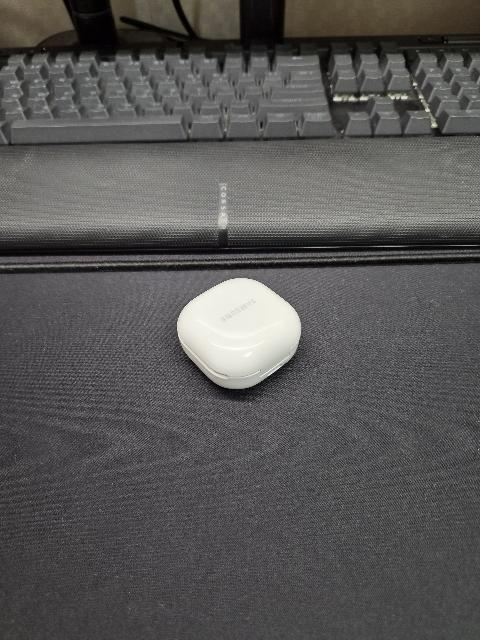earphone_case: (177, 278, 301, 389)
